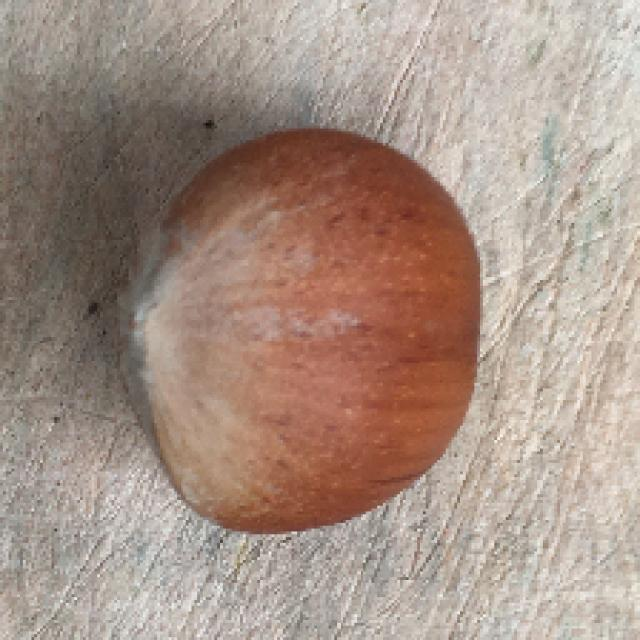qualityHazelnut: (103, 123, 490, 540)
